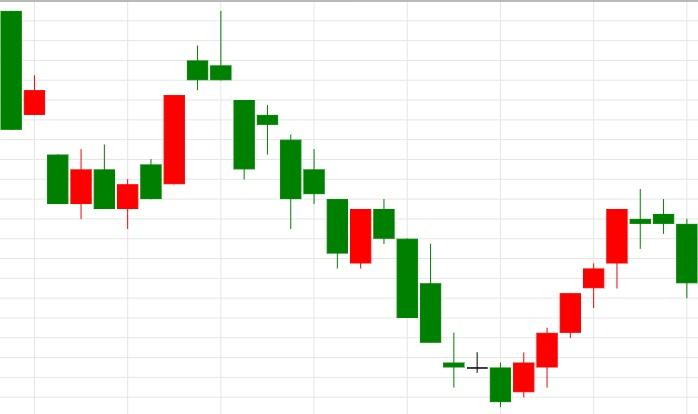three_white_soldiers_rise: (209, 11, 582, 408)
